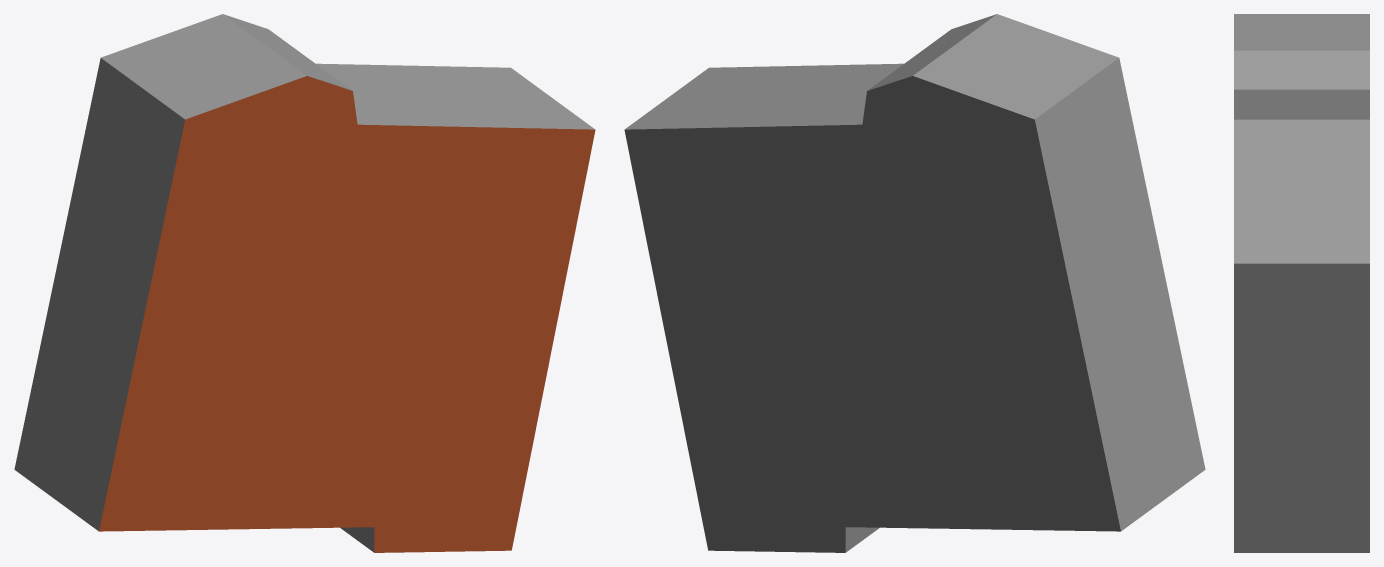
File: construction_3541_assumed_A_Casa_h6m.obj
3 renders of one model, left to right at view 1: azimuth 30°, elevation 25°; view 2: azimuth 150°, elevation 25°; view 3: azimuth 270°, elevation 25°, orthographic. The views are drawn at different scales.
Parts seen in each view (by area): view 1: construction_3541_assumed_A_Casa; view 2: construction_3541_assumed_A_Casa; view 3: construction_3541_assumed_A_Casa.
Part boxes in pixels (x1=…): construction_3541_assumed_A_Casa: x1=14, y1=14, x2=595, y2=552; construction_3541_assumed_A_Casa: x1=624, y1=14, x2=1205, y2=552; construction_3541_assumed_A_Casa: x1=1234, y1=14, x2=1369, y2=552.
Bounding box in the file's own units: 20.35 × 20.55 × 6.
